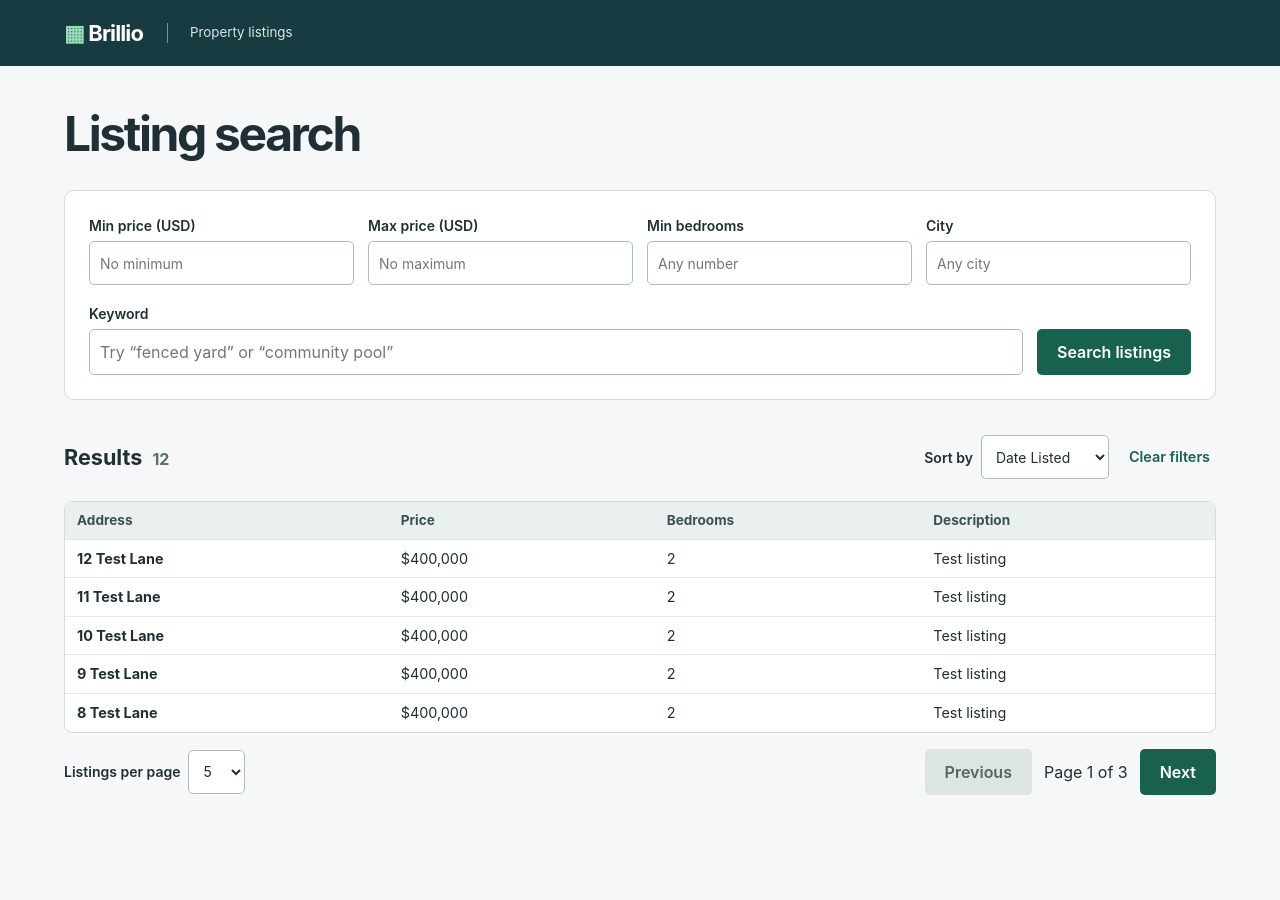
pages through the full result set and back with 5 listings per page
Check: the dropdown labelled "Listings per page" shows "5", box [188,750,246,794]
Check: the button "Previous" is disabled, box [925,749,1032,795]
Click the button "Next" at (1178, 772), box [1140,749,1216,795]
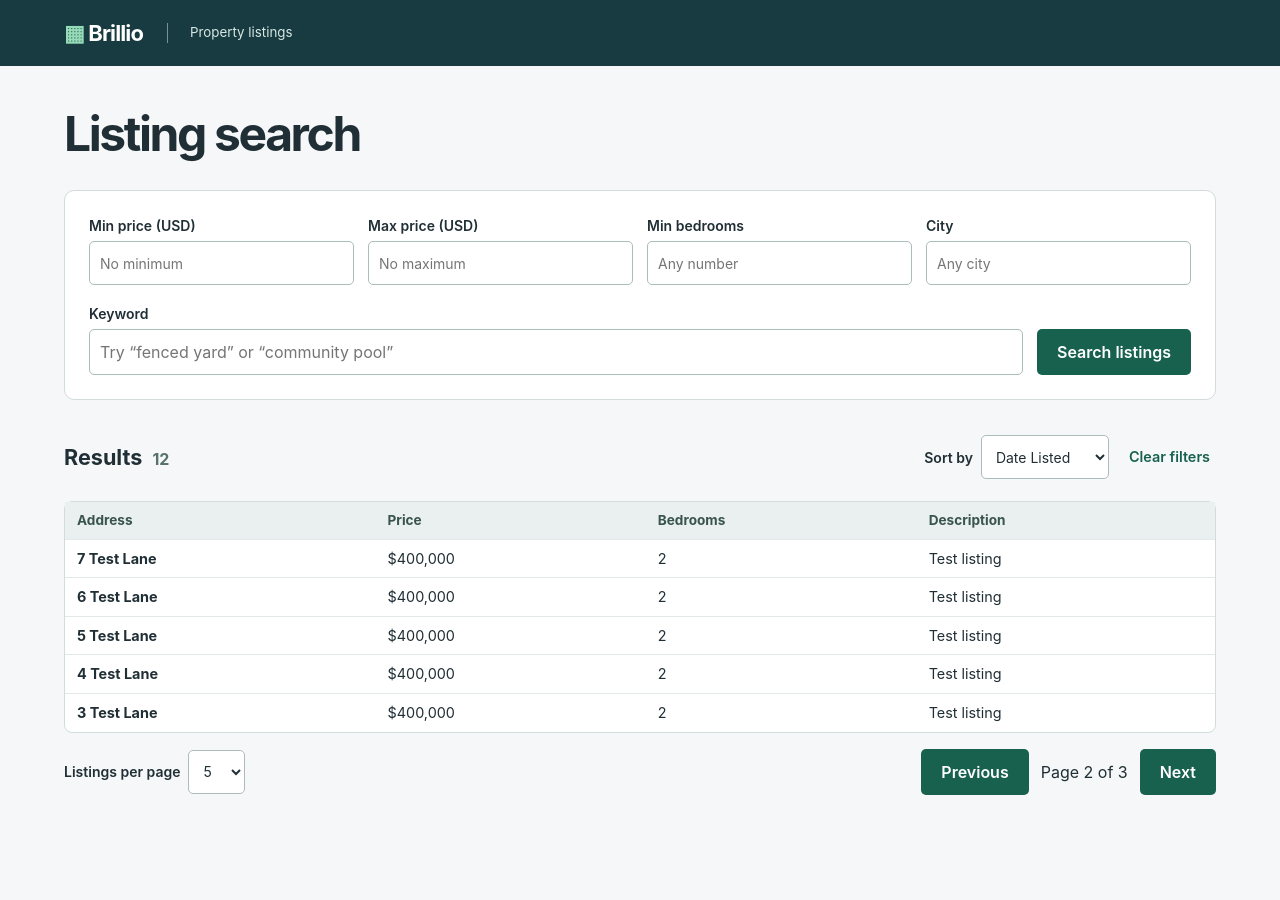
Check: the button "Previous" is enabled, box [921,749,1029,795]
Click the button "Next" at (1178, 772), box [1140,749,1216,795]
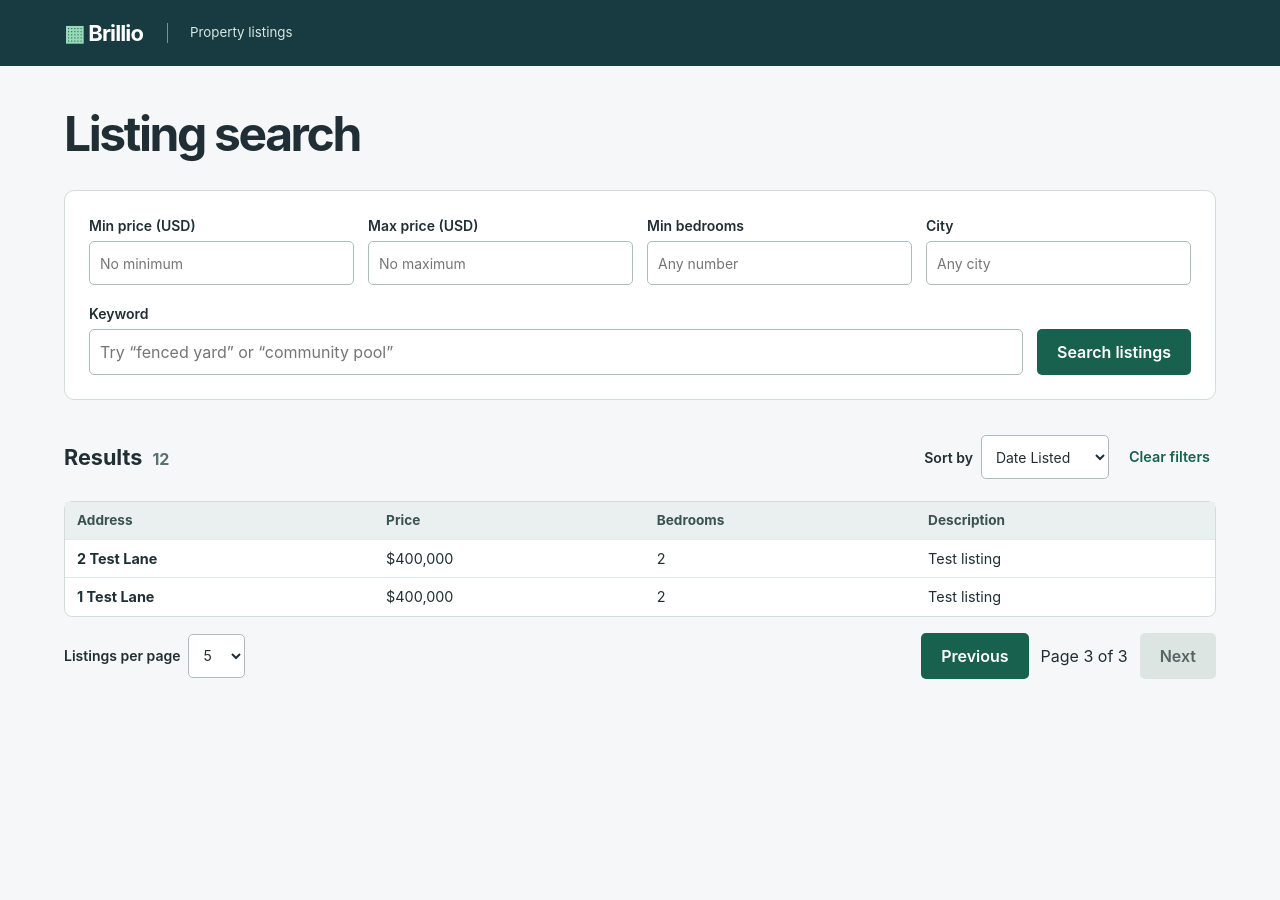
Check: the button "Previous" is enabled
Check: the button "Next" is disabled, box [1140,633,1216,679]
Click the button "Previous" at (975, 656), box [921,633,1029,679]
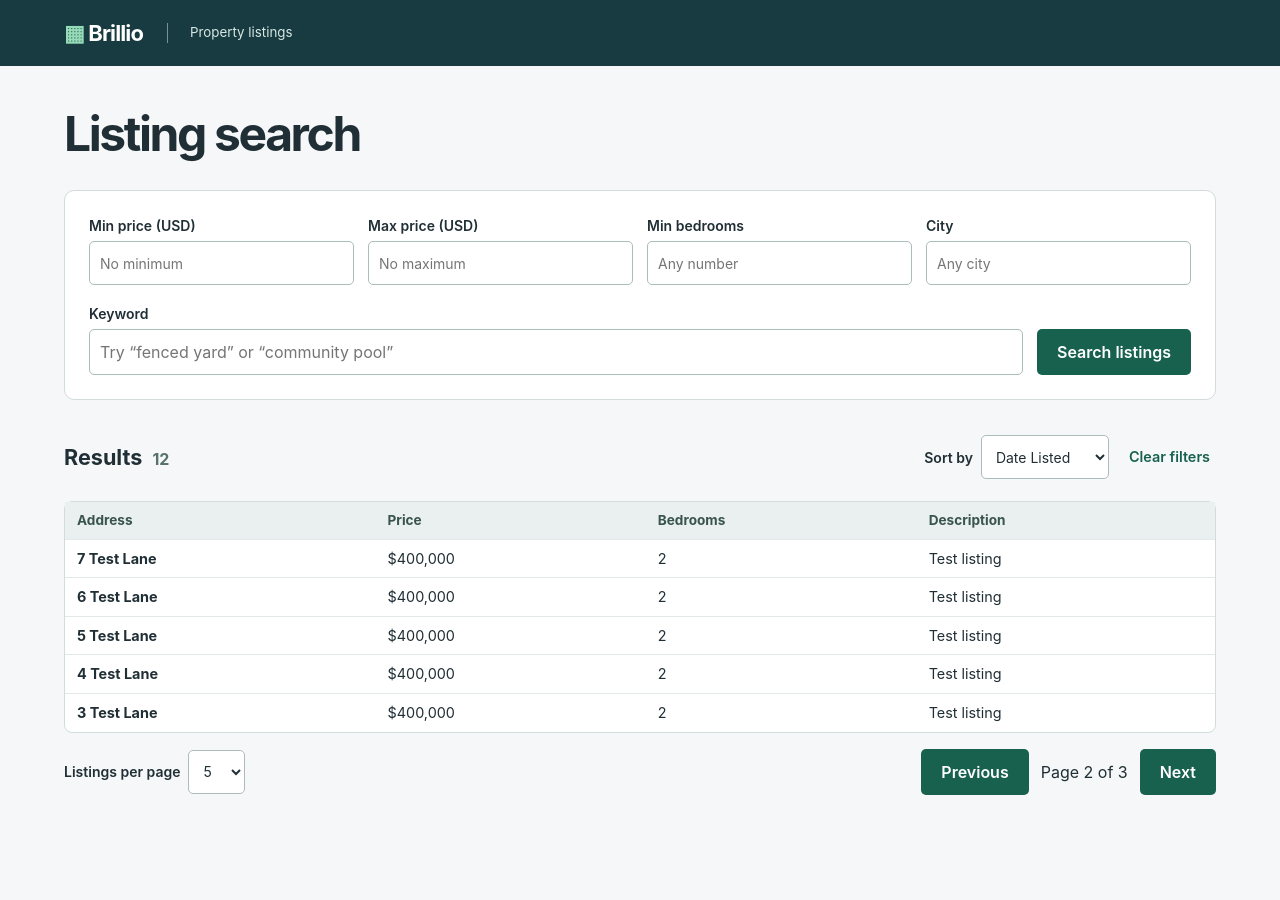
Check: the button "Previous" is enabled
Check: the button "Next" is enabled, box [1140,749,1216,795]
Click the button "Previous" at (975, 772), box [921,749,1029,795]
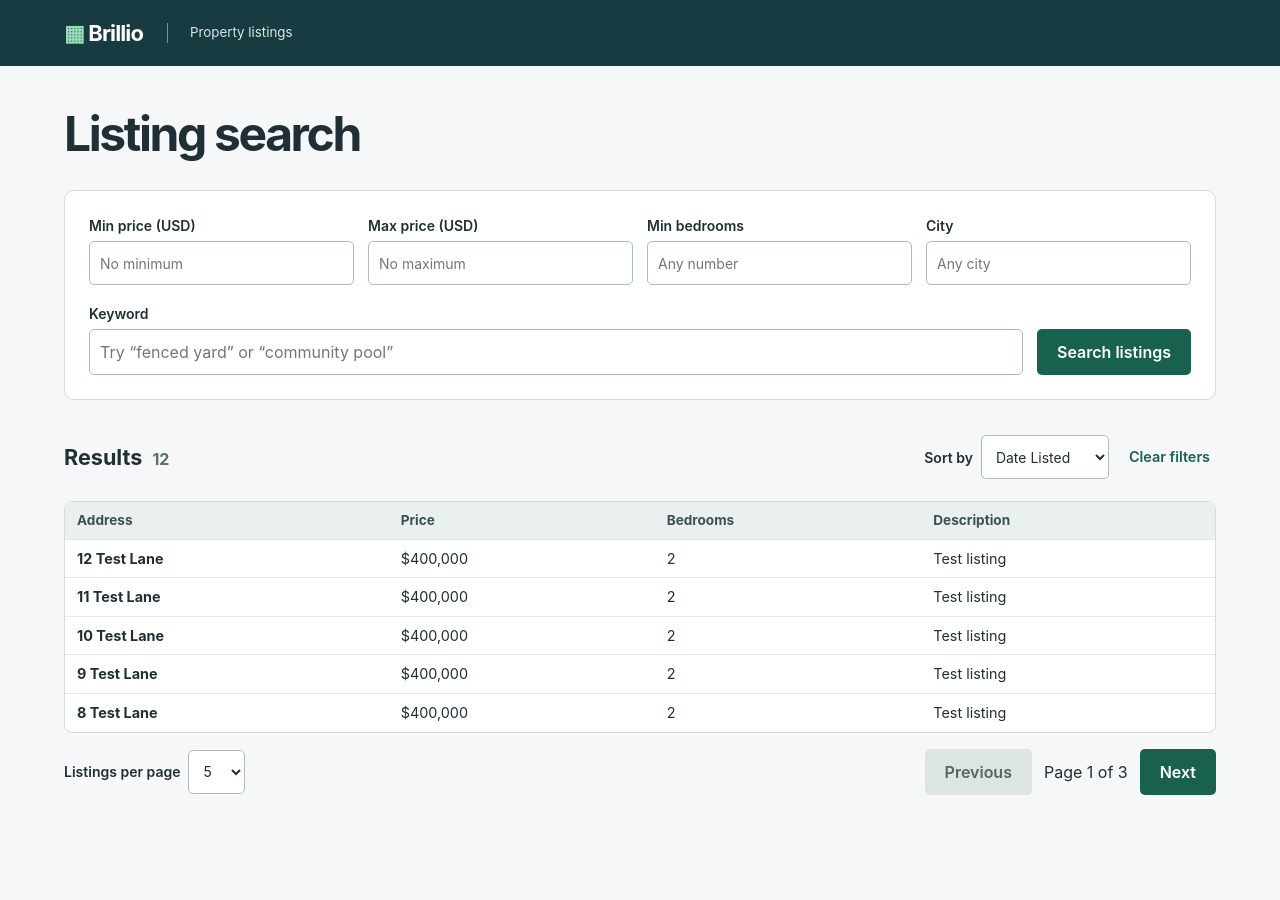
Check: the button "Next" is enabled, box [1140,749,1216,795]
Check: the button "Previous" is disabled, box [925,749,1032,795]
